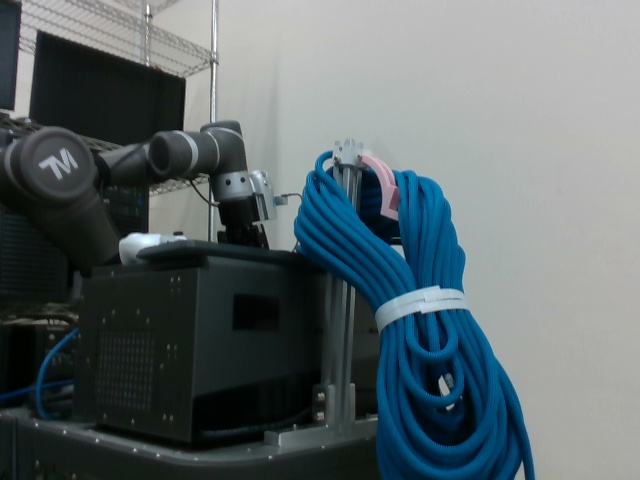rope: (292, 144, 540, 480)
